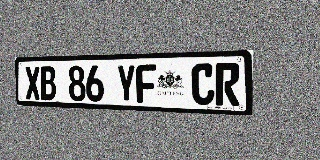6: (85, 65, 104, 102)
8: (68, 66, 86, 101)
B: (40, 66, 56, 100)
C: (191, 63, 214, 105)
F: (136, 64, 156, 103)
R: (215, 63, 240, 106)
X: (25, 66, 41, 100)
Y: (116, 65, 136, 103)
